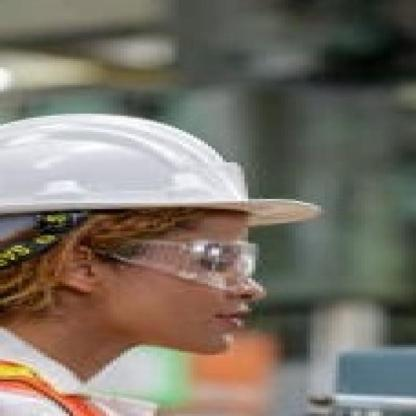capacete: (1, 114, 332, 236)
oculos: (100, 235, 261, 291)
